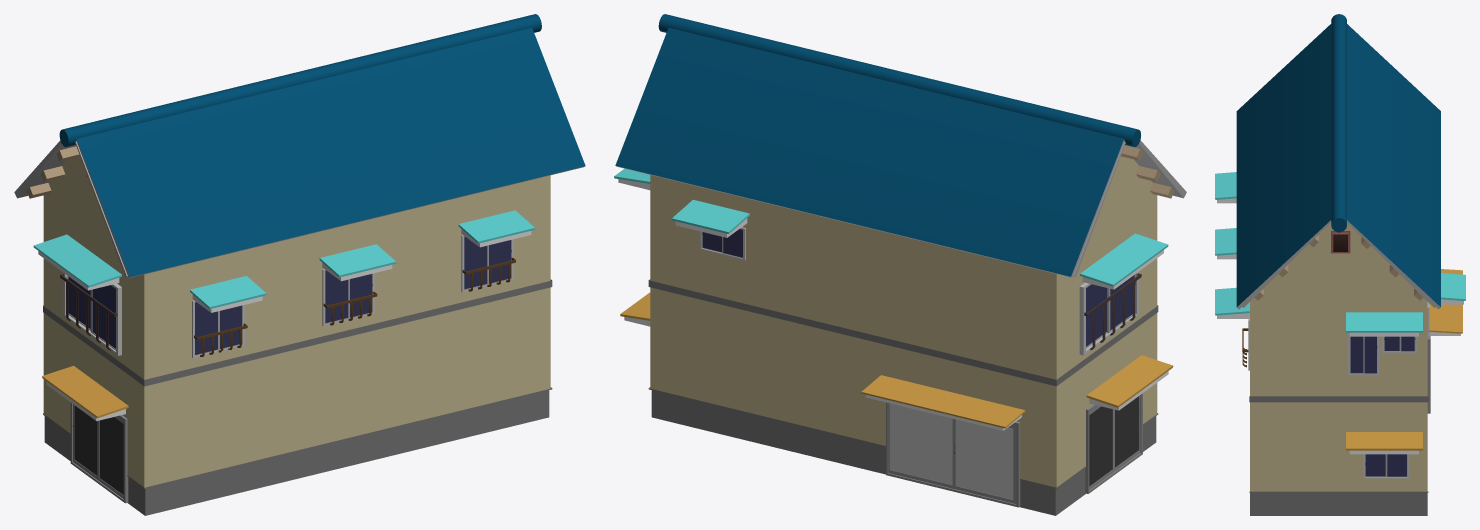
File: house_004_middle.fbx
3 views of the same model, side by side, from view 1: azimuth 30°, elevation 25°; view 2: azimuth 150°, elevation 25°; view 3: azimuth 270°, elevation 25° (orthographic). The views are drawn at different scales.
Parts seen in each view (by area): view 1: polySurface1; view 2: polySurface1; view 3: polySurface1.
Boxes of the visible parts, box(x1,y1,x2,y2) form: polySurface1: box(14, 14, 585, 515); polySurface1: box(614, 14, 1186, 515); polySurface1: box(1215, 14, 1465, 515).
Bounding box in the file's own units: 7.96 × 5.67 × 4.09.
